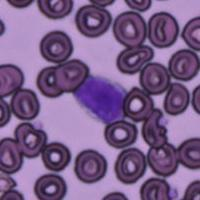L: (73, 74, 127, 125)
